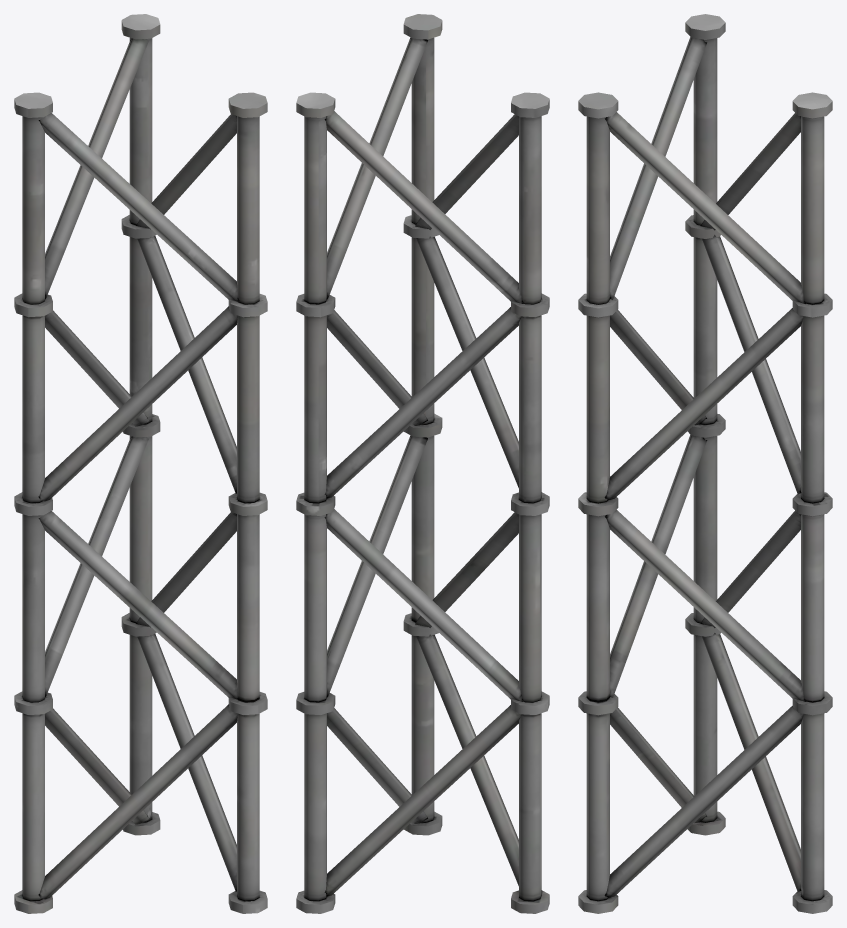
The picture shows the model from 3 angles, left to right: view 1: azimuth 30°, elevation 25°; view 2: azimuth 150°, elevation 25°; view 3: azimuth 270°, elevation 25°; orthographic projection.
Visible parts, largest first — view 1: body0_model0_lod0_mesh0; view 2: body0_model0_lod0_mesh0; view 3: body0_model0_lod0_mesh0.
Part boxes in pixels (box(x1,y1,x2,y2)): body0_model0_lod0_mesh0: box(14, 14, 267, 913); body0_model0_lod0_mesh0: box(296, 14, 549, 913); body0_model0_lod0_mesh0: box(578, 14, 832, 913).
Bounding box in the file's own units: 5.09 × 20 × 5.74.
Materials: 1 (1 with a texture image).
